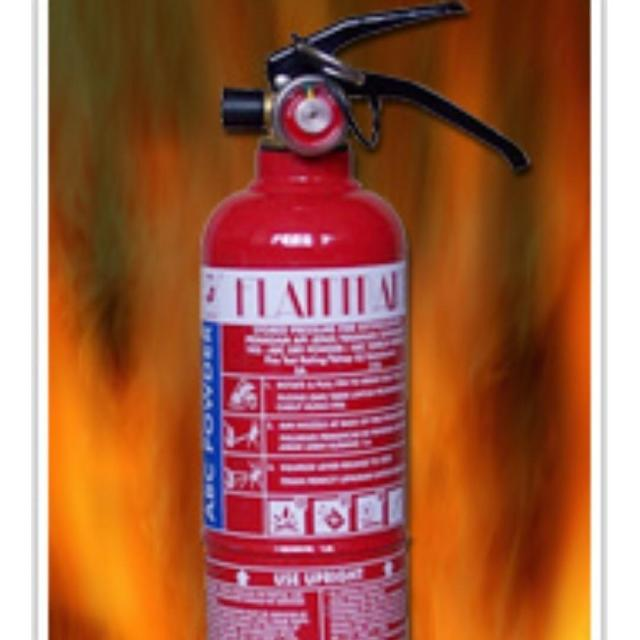fire_extinguisher: (193, 0, 536, 639)
